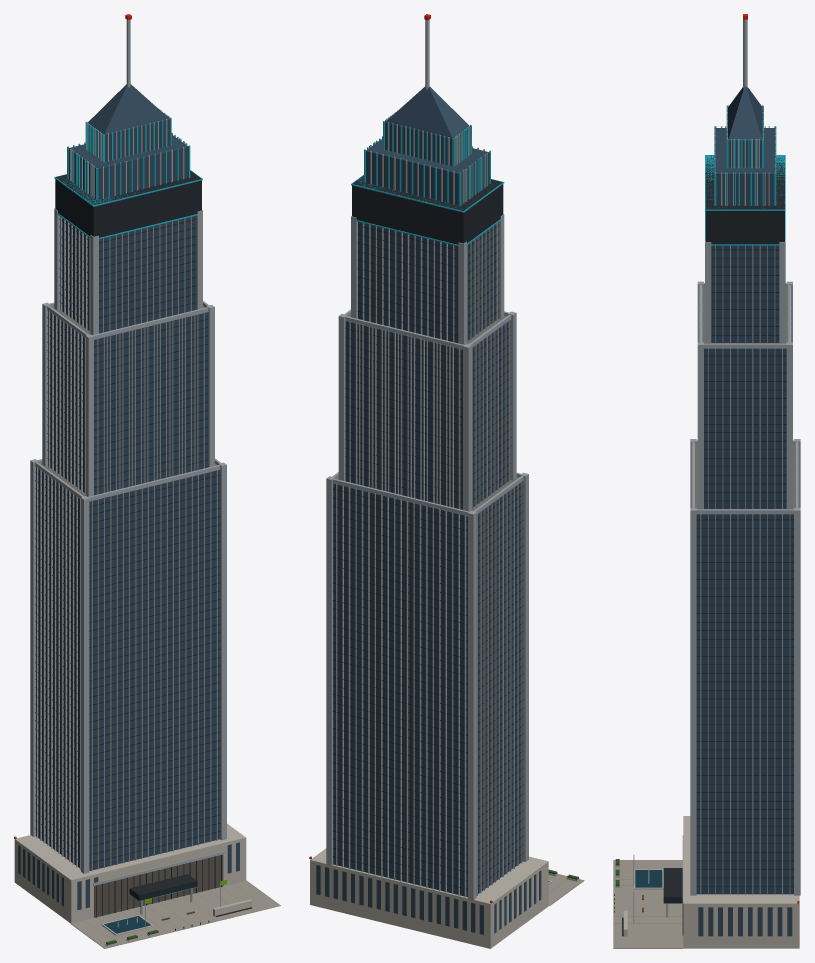
Rendered from speedscan.glb.
3 renders of one model, left to right at view 1: azimuth 30°, elevation 25°; view 2: azimuth 150°, elevation 25°; view 3: azimuth 270°, elevation 25°, orthographic. The views are drawn at different scales.
Visible parts, largest first — view 1: hq_0, hq_1; view 2: hq_0, hq_1; view 3: hq_0, hq_2.
Boxes of the visible parts, x1=… form: hq_0: x1=14, y1=14, x2=280, y2=948; hq_1: x1=106, y1=314, x2=195, y2=913; hq_0: x1=309, y1=14, x2=584, y2=948; hq_1: x1=359, y1=323, x2=450, y2=506; hq_0: x1=613, y1=14, x2=800, y2=948; hq_2: x1=725, y1=126, x2=765, y2=205.
Bounding box in the file's own units: 84.8 × 397 × 75.6.
